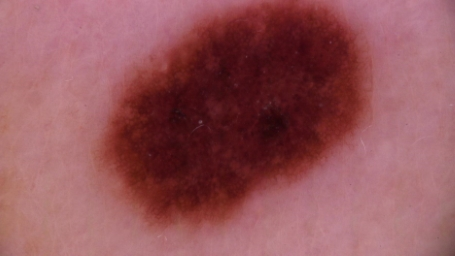nevus: (102, 1, 362, 231)
